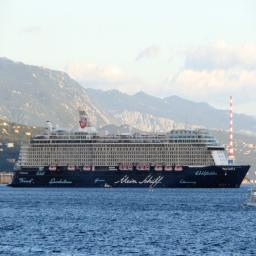cruises: (12, 110, 252, 195)
